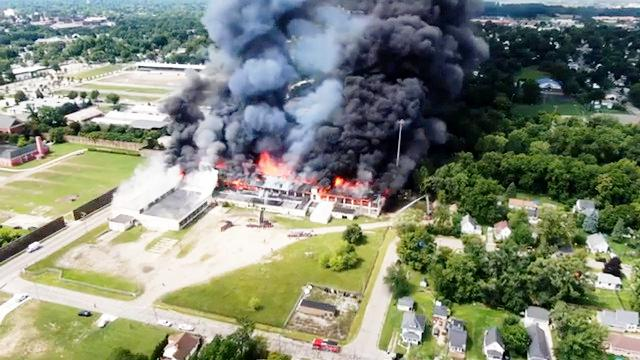fire: (259, 151, 292, 182)
smoke: (299, 3, 484, 169), (209, 0, 307, 46), (226, 52, 296, 99), (161, 92, 197, 163), (192, 117, 226, 175), (246, 93, 288, 138)
